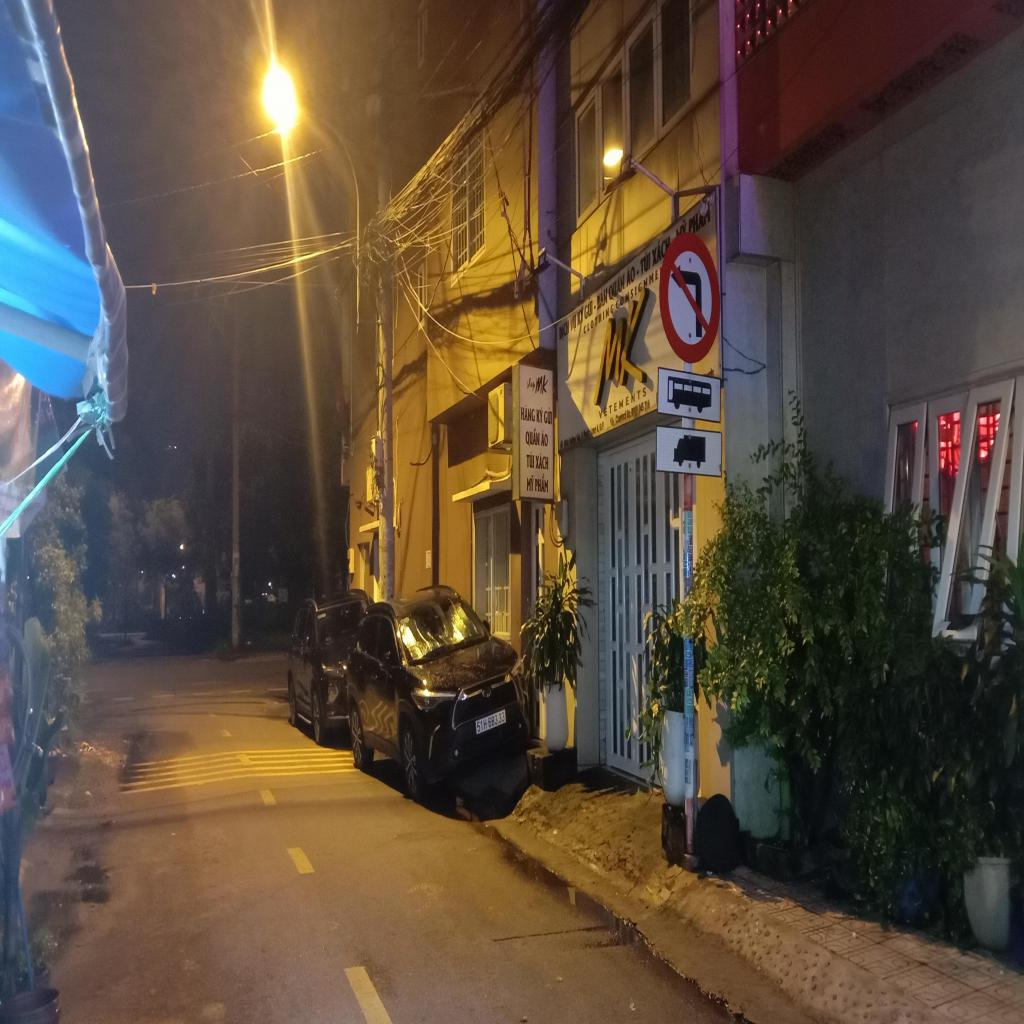cam_re_trai: (658, 231, 720, 361)
khac: (657, 365, 721, 425), (656, 425, 720, 477)
